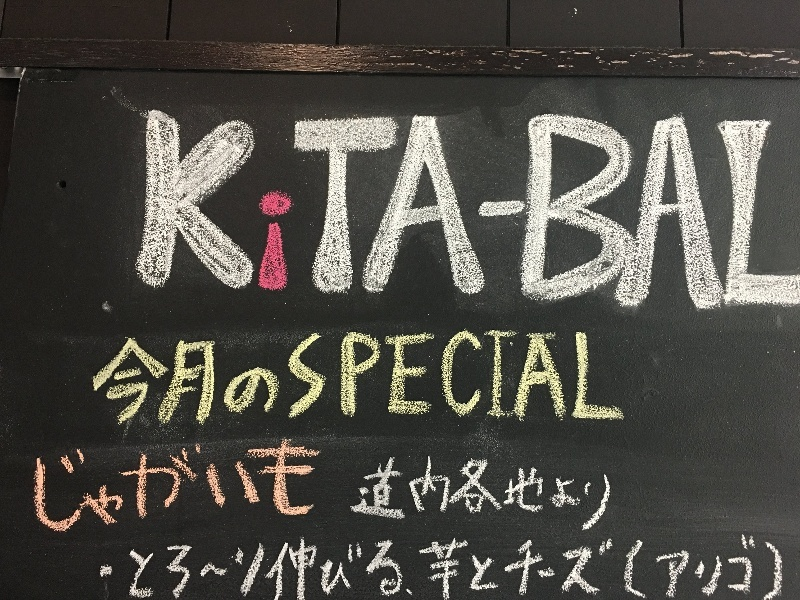text: (145, 111, 160, 311), (161, 111, 176, 311), (177, 111, 192, 311), (193, 111, 208, 311), (209, 111, 224, 311), (225, 111, 240, 311), (241, 111, 256, 311), (257, 111, 272, 311), (273, 111, 288, 311), (289, 111, 304, 311), (305, 111, 320, 311), (321, 111, 336, 311), (337, 111, 352, 311), (353, 111, 368, 311), (369, 111, 384, 311), (385, 111, 400, 311), (401, 111, 416, 311), (417, 111, 432, 311), (433, 111, 448, 311), (449, 111, 464, 311), (465, 111, 480, 311), (481, 111, 496, 311), (497, 111, 512, 311), (513, 111, 528, 311), (529, 111, 544, 311), (545, 111, 560, 311), (561, 111, 576, 311), (577, 111, 592, 311), (593, 111, 608, 311), (609, 111, 624, 311), (625, 111, 640, 311), (641, 111, 656, 311), (657, 111, 672, 311), (673, 111, 688, 311), (689, 111, 704, 311), (705, 111, 720, 311), (721, 111, 736, 311), (737, 111, 752, 311), (753, 111, 768, 311), (769, 111, 784, 311), (785, 111, 799, 311), (97, 330, 112, 431), (113, 330, 128, 431), (129, 330, 144, 431), (145, 330, 160, 431), (161, 330, 176, 431), (177, 330, 192, 431), (193, 330, 208, 431), (209, 330, 224, 431), (225, 330, 240, 431), (241, 330, 256, 431), (257, 330, 272, 431), (273, 330, 288, 431), (289, 330, 304, 431), (305, 330, 320, 431), (321, 330, 336, 431), (337, 330, 352, 431), (353, 330, 368, 431), (369, 330, 384, 431), (385, 330, 400, 431), (401, 330, 416, 431), (417, 330, 432, 431), (433, 330, 448, 431), (449, 330, 464, 431), (465, 330, 480, 431), (481, 330, 496, 431), (497, 330, 512, 431), (513, 330, 528, 431), (529, 330, 544, 431), (545, 330, 560, 431), (561, 330, 576, 431), (577, 330, 592, 431), (593, 330, 608, 431), (609, 330, 624, 431), (49, 438, 64, 535), (65, 438, 80, 535), (81, 438, 96, 535), (97, 438, 112, 535), (113, 438, 128, 535), (129, 438, 144, 535), (145, 438, 160, 535), (161, 438, 176, 535), (177, 438, 192, 535), (193, 438, 208, 535), (209, 438, 224, 535), (225, 438, 240, 535), (241, 438, 256, 535), (257, 438, 272, 535), (273, 438, 288, 535), (289, 438, 304, 535), (35, 438, 48, 535), (305, 438, 318, 535), (369, 459, 384, 533), (385, 459, 400, 533), (401, 459, 416, 533), (417, 459, 432, 533), (433, 459, 448, 533), (449, 459, 464, 533), (465, 459, 480, 533), (481, 459, 496, 533), (497, 459, 512, 533), (513, 459, 528, 533), (529, 459, 544, 533), (545, 459, 560, 533), (561, 459, 576, 533), (577, 459, 592, 533), (593, 459, 608, 533), (769, 535, 785, 597), (433, 535, 448, 597), (449, 535, 464, 597), (465, 535, 480, 597), (481, 535, 496, 597), (497, 535, 512, 597), (513, 535, 528, 597), (529, 535, 544, 597), (545, 535, 560, 597), (561, 535, 576, 597), (577, 535, 592, 597), (593, 535, 608, 597), (609, 535, 624, 597), (625, 535, 640, 597), (641, 535, 656, 597), (657, 535, 672, 597), (673, 535, 688, 597), (689, 535, 704, 597), (705, 535, 720, 597), (721, 535, 736, 597), (737, 535, 752, 597), (753, 535, 768, 597), (113, 538, 128, 598), (129, 538, 144, 598), (145, 538, 160, 598), (161, 538, 176, 598), (177, 538, 192, 598), (193, 538, 208, 598), (209, 538, 224, 598), (225, 538, 240, 598), (241, 538, 256, 598), (257, 538, 272, 598), (273, 538, 288, 598), (289, 538, 304, 598), (305, 538, 320, 598), (321, 538, 336, 598), (337, 538, 352, 598), (353, 538, 368, 598), (369, 538, 384, 598), (385, 538, 400, 598), (418, 535, 432, 597), (401, 538, 415, 598), (99, 538, 112, 598), (609, 459, 619, 533), (92, 330, 96, 431), (365, 459, 368, 533)
